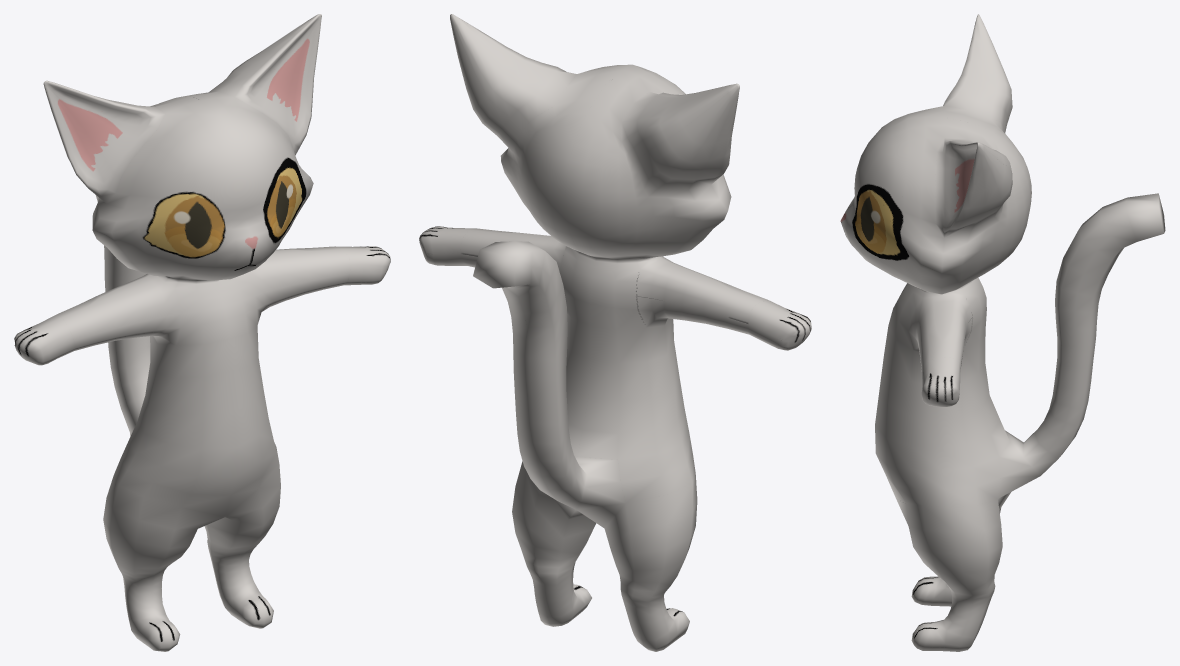
Rendered from SaiJin.fbx.
The picture shows the model from 3 angles, left to right: view 1: azimuth 30°, elevation 25°; view 2: azimuth 150°, elevation 25°; view 3: azimuth 270°, elevation 25°; orthographic projection. The views are drawn at different scales.
Parts seen in each view (by area): view 1: Daijin; view 2: Daijin; view 3: Daijin.
Boxes of the visible parts, left/top/right/bottom form: Daijin: left=14, top=14, right=390, bottom=651; Daijin: left=419, top=14, right=811, bottom=651; Daijin: left=840, top=14, right=1165, bottom=651.
Size of the model in its own units: 33.26 by 48.86 by 26.23.
